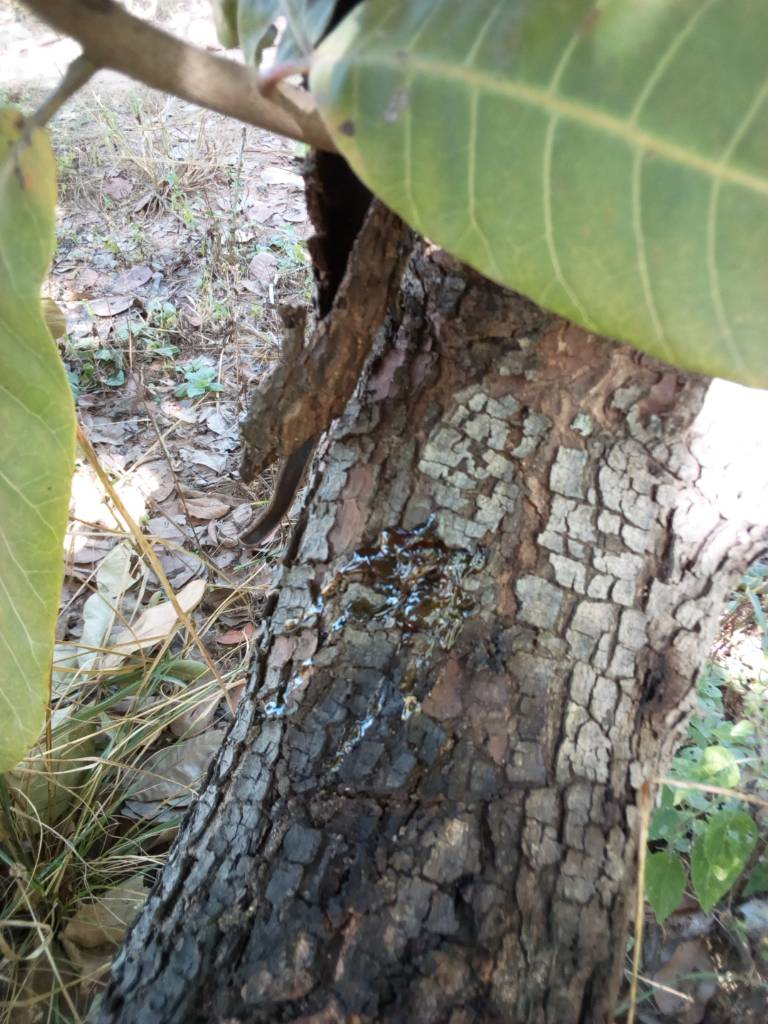Mecocorynus longiceps: (323, 502, 498, 777)
